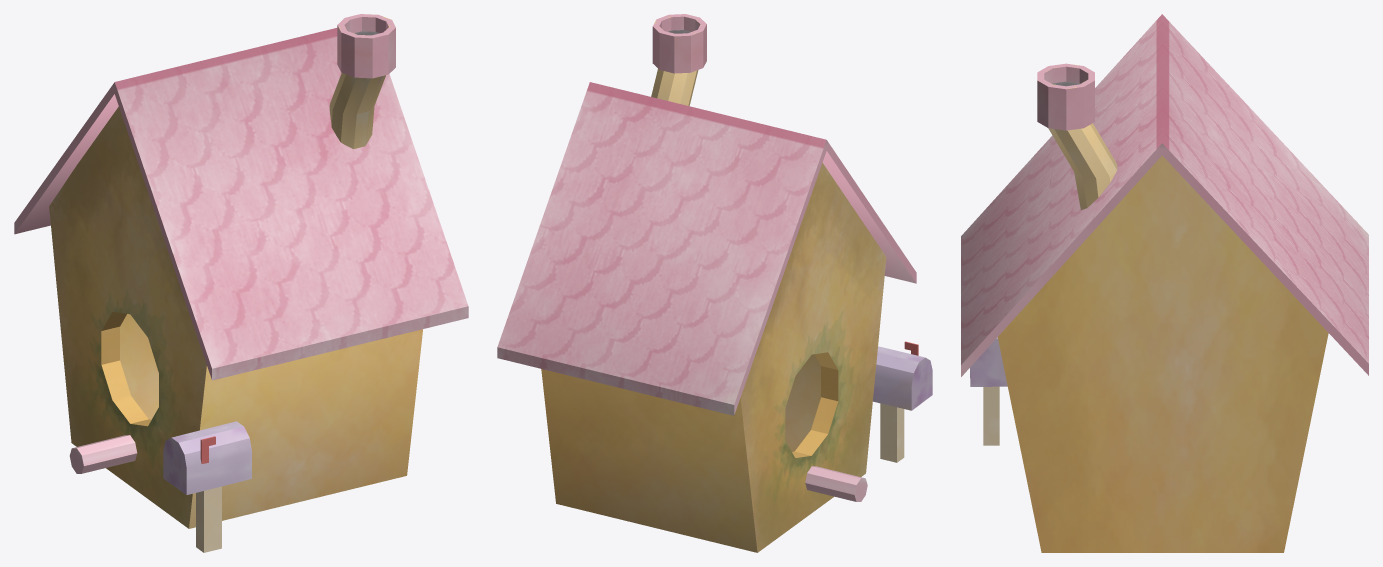
The model's file is birdhouse.fbx.
3 renders of one model, left to right at view 1: azimuth 30°, elevation 25°; view 2: azimuth 150°, elevation 25°; view 3: azimuth 270°, elevation 25°, orthographic. The views are drawn at different scales.
Parts seen in each view (by area): view 1: pCube8; view 2: pCube8; view 3: pCube8.
Boxes of the visible parts, x1,y1,x2,y2 form: pCube8: [14, 14, 468, 552]; pCube8: [497, 14, 932, 552]; pCube8: [961, 14, 1368, 552].
Size of the model in its own units: 161 by 234 by 187.
1 material, 1 textured.
